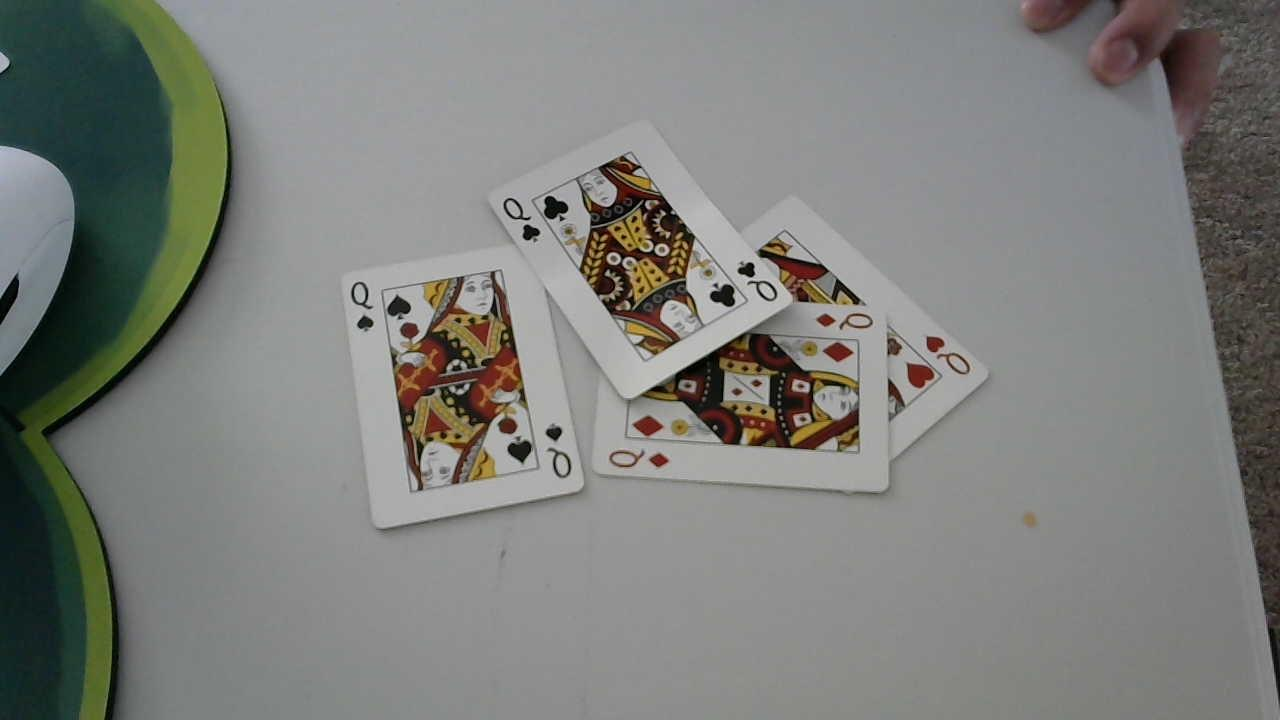QC: (731, 256, 781, 308), (498, 196, 544, 248)
QD: (607, 447, 672, 471), (814, 307, 874, 333)
QH: (920, 330, 977, 379)
QS: (542, 420, 576, 483), (350, 278, 377, 336)
